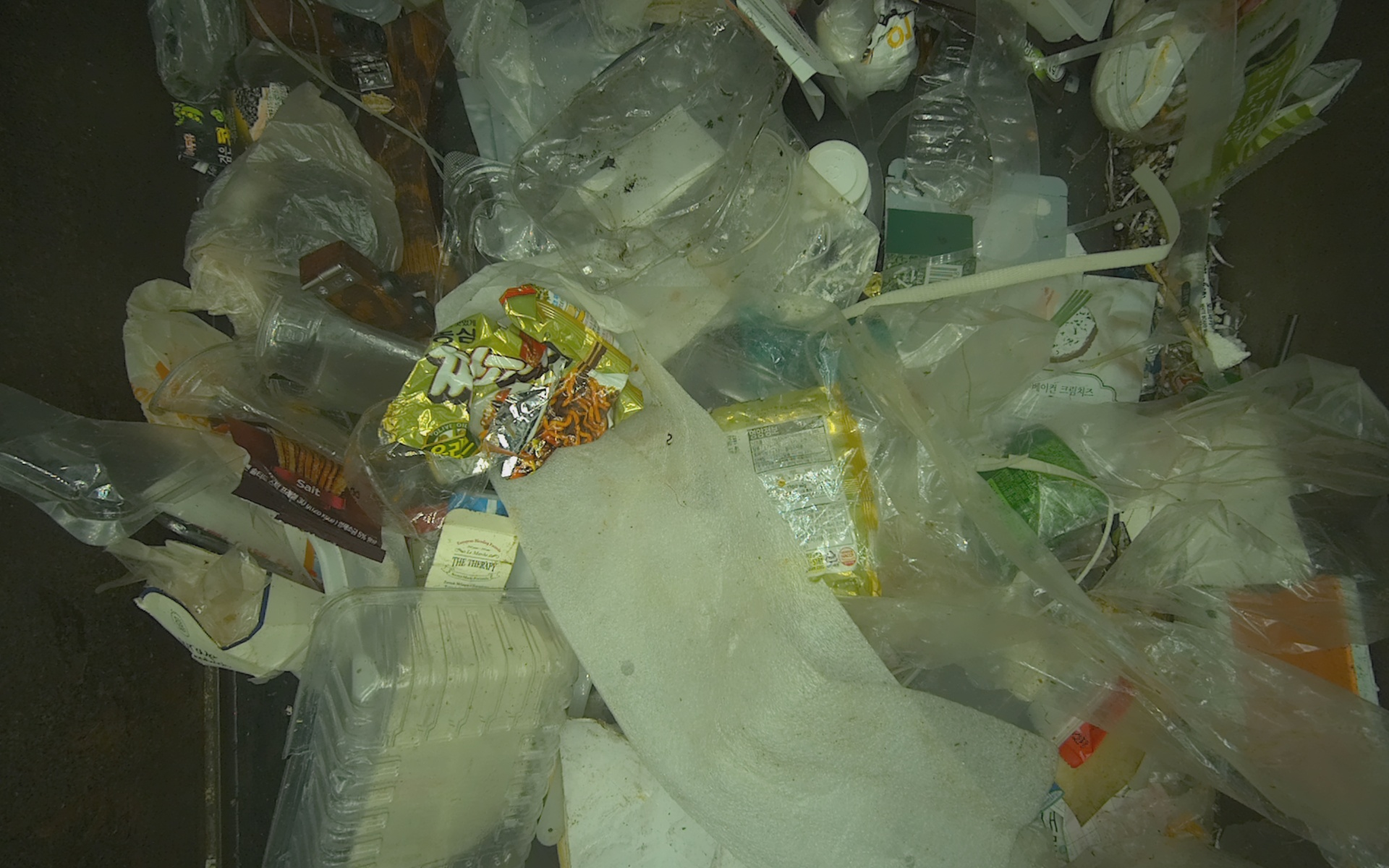PET: (904, 16, 992, 206)
PET-C: (506, 7, 792, 294), (687, 127, 880, 309), (148, 342, 352, 466), (255, 284, 428, 414), (344, 394, 489, 548)
